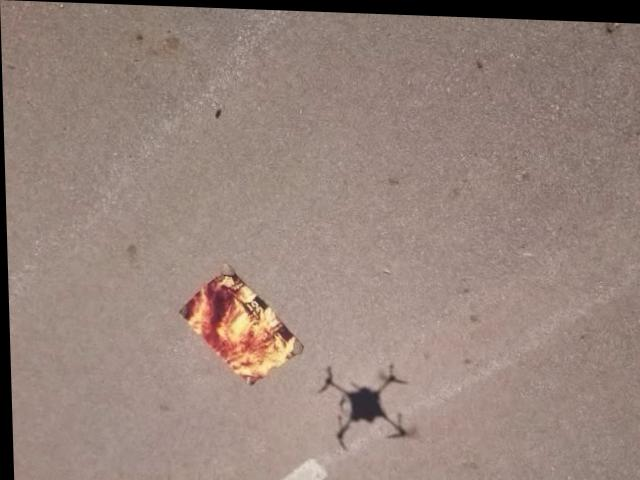fire-poster: (175, 262, 305, 388)
